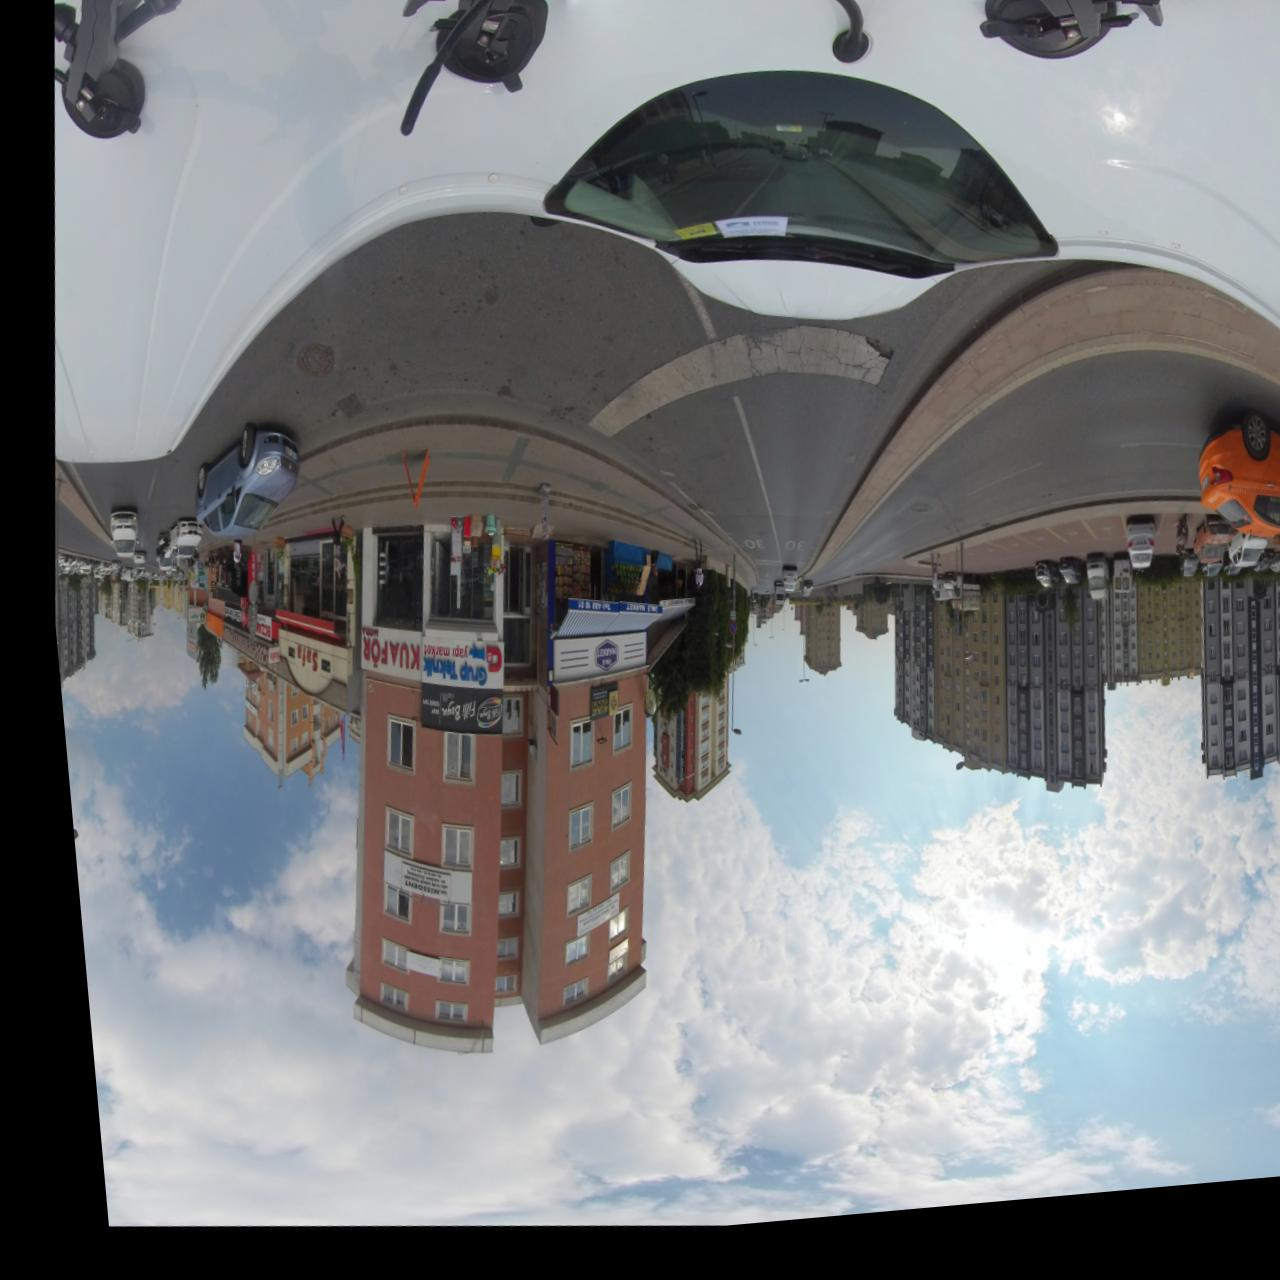SignStore: (406, 688, 489, 743), (408, 645, 490, 694), (348, 631, 407, 685), (553, 642, 619, 687), (210, 627, 254, 672), (574, 693, 604, 730), (281, 647, 307, 680), (212, 605, 234, 633), (244, 618, 263, 646), (196, 601, 211, 619)
